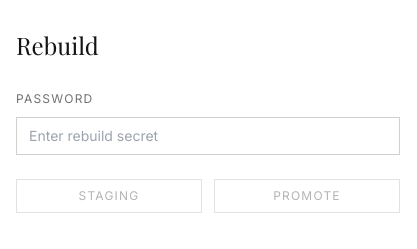
Test: RebuildPage › shows error message on non-ok response
Type "wrong" into the password field labelled "Password". click: {"x": 208, "y": 136}
box: 16,117 -> 400,155
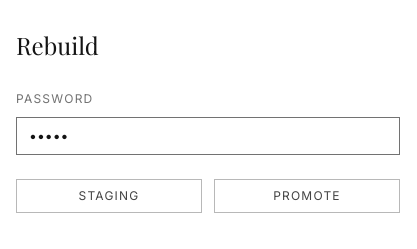
Click the button "Staging". click: {"x": 109, "y": 196}
box: 16,179 -> 202,213
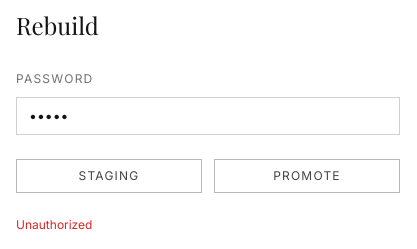
Expected: the text "Unauthorized" is shown, 16,217 -> 92,232
